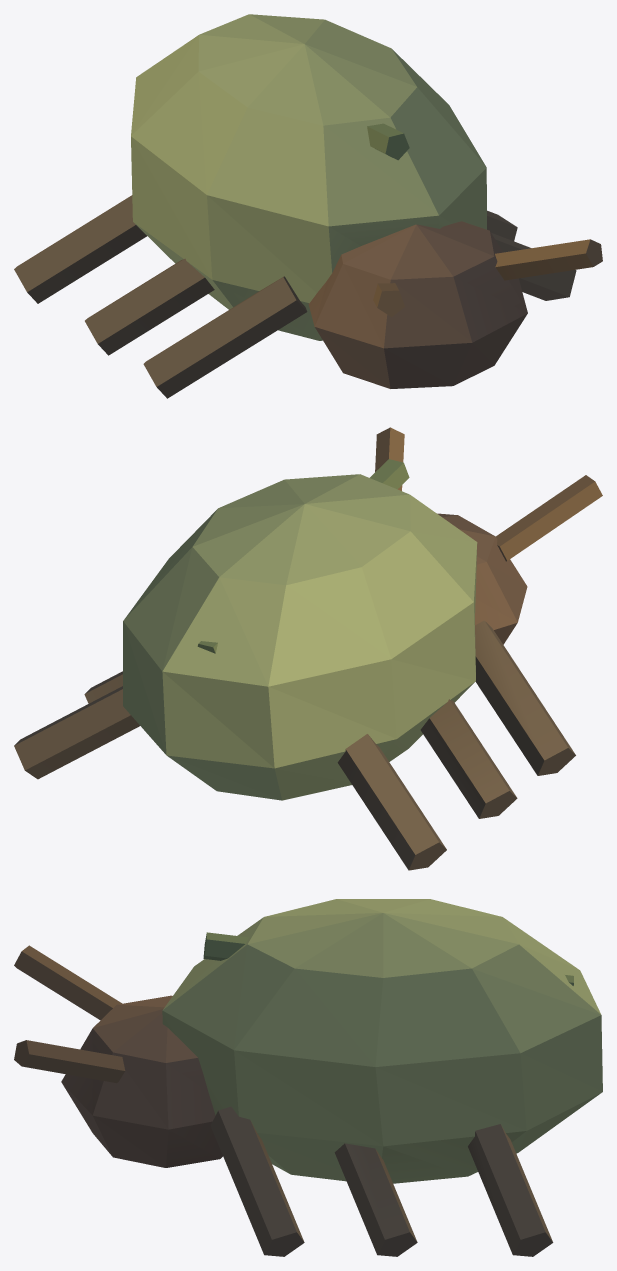
The model's file is wild_beetle.glb.
3 renders of one model, top to bottom at view 1: azimuth 30°, elevation 25°; view 2: azimuth 150°, elevation 25°; view 3: azimuth 270°, elevation 25°, orthographic. The views are drawn at different scales.
Visible parts, largest first — view 1: wild_beetle; view 2: wild_beetle; view 3: wild_beetle.
Boxes of the visible parts, x1=… form: wild_beetle: x1=14, y1=14, x2=602, y2=398; wild_beetle: x1=14, y1=427, x2=602, y2=870; wild_beetle: x1=14, y1=899, x2=602, y2=1256.
Size of the model in its own units: 0.1675 by 0.1 by 0.2084.
